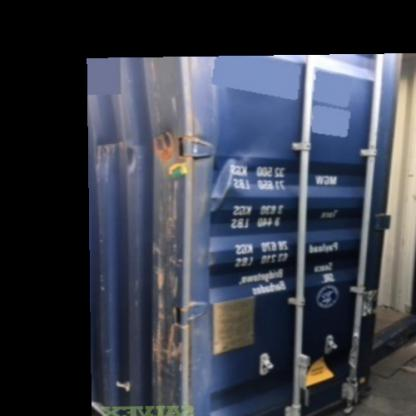Damage: (144, 121, 195, 415), (87, 130, 142, 182), (204, 148, 246, 207)
